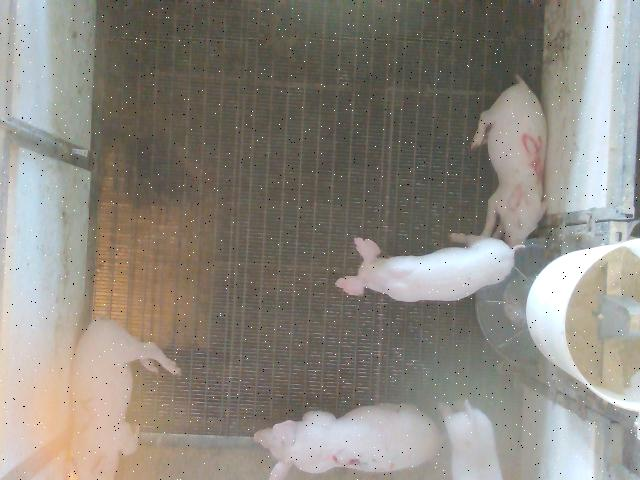pig-2: (71, 319, 180, 479)
pig-3: (254, 405, 442, 479)
pig-5: (471, 75, 546, 247)
